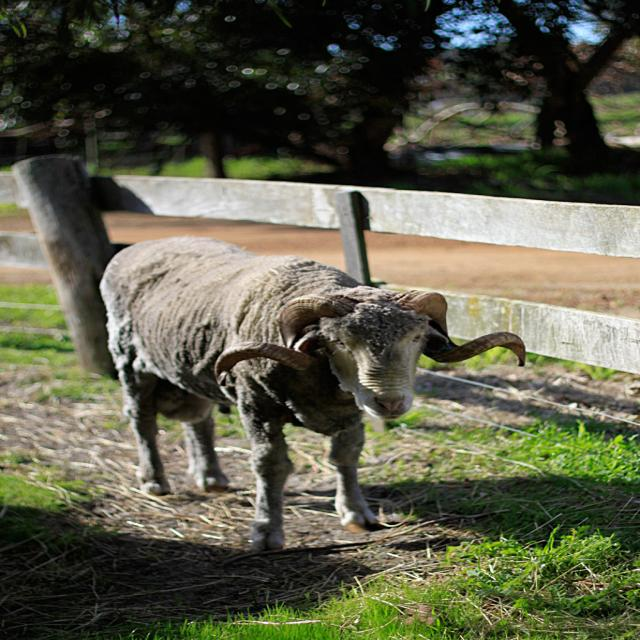Sheep: (94, 238, 524, 551)
